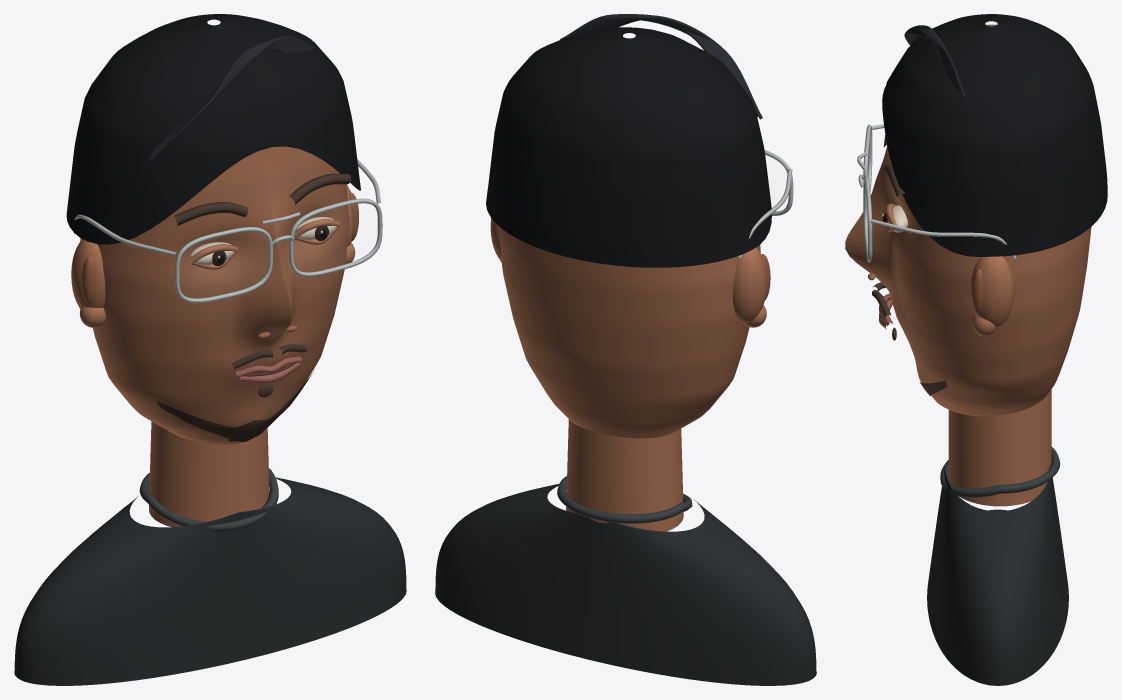
File: saksham-bust.glb
The picture shows the model from 3 angles, left to right: view 1: azimuth 30°, elevation 25°; view 2: azimuth 150°, elevation 25°; view 3: azimuth 270°, elevation 25°; orthographic projection. The views are drawn at different scales.
Parts seen in each view (by area): view 1: Shoulder_bust, Sculpted_head, Swept_hair_volume, Neck, Crewneck_collar, Left_ear, Left_glasses_frame, Right_glasses_frame, Short_jaw_beard, Left_eyebrow, Right_eyebrow, Swept_hair_ridge_0 (+1 smaller); view 2: Swept_hair_volume, Shoulder_bust, Sculpted_head, Neck, Left_ear, Crewneck_collar; view 3: Swept_hair_volume, Sculpted_head, Shoulder_bust, Neck, Right_ear, Crewneck_collar, Right_glasses_frame, Right_glasses_arm, Left_glasses_frame, Right_ear_inner.
Boxes of the visible parts, x1,y1,x2,y2 form: Shoulder_bust: (14, 477, 406, 685); Sculpted_head: (80, 146, 348, 445); Swept_hair_volume: (66, 14, 360, 244); Neck: (149, 421, 269, 526); Crewneck_collar: (139, 468, 278, 531); Left_ear: (71, 239, 105, 308); Left_glasses_frame: (175, 227, 272, 303); Right_glasses_frame: (289, 198, 382, 276); Short_jaw_beard: (156, 371, 313, 441); Left_eyebrow: (174, 202, 248, 225); Right_eyebrow: (289, 173, 351, 204); Swept_hair_ridge_0: (148, 48, 288, 161); Swept_hair_volume: (486, 27, 771, 267); Shoulder_bust: (435, 484, 816, 685); Sculpted_head: (499, 226, 760, 438); Neck: (566, 419, 683, 531); Left_ear: (732, 247, 766, 323); Crewneck_collar: (557, 476, 692, 523); Swept_hair_volume: (882, 14, 1107, 256); Sculpted_head: (845, 24, 1091, 416); Shoulder_bust: (927, 467, 1068, 685); Neck: (948, 389, 1051, 506); Right_ear: (970, 256, 1014, 327); Crewneck_collar: (940, 447, 1060, 497); Right_glasses_frame: (863, 176, 872, 262); Right_glasses_arm: (870, 219, 1016, 259); Left_glasses_frame: (863, 124, 872, 192); Right_ear_inner: (972, 269, 982, 314).
Bounding box in the file's own units: 3 × 4.55 × 1.89.
